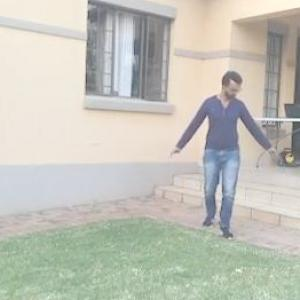land: (165, 68, 272, 245)
